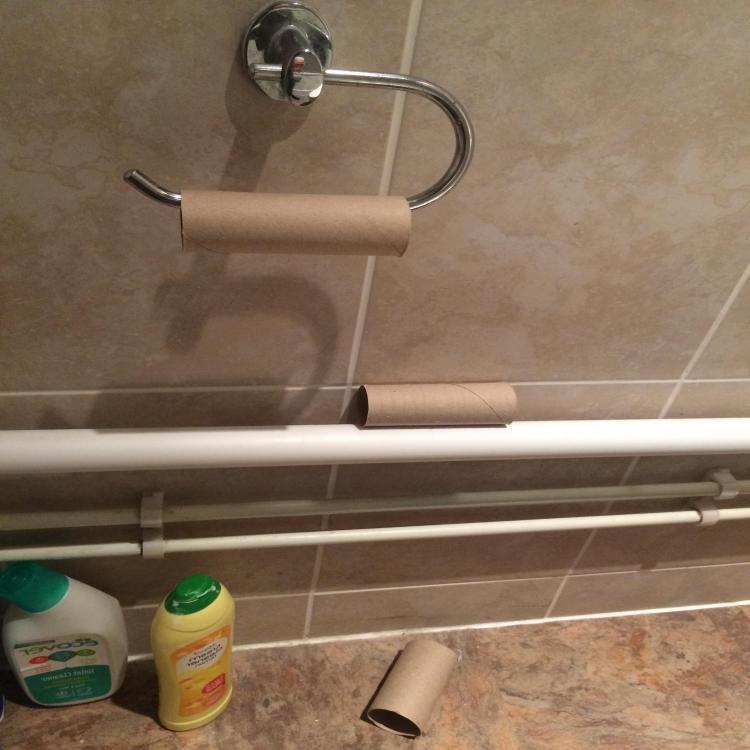Plastic bottle cap: (1, 560, 103, 613)
